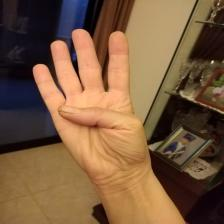four: (31, 28, 152, 176)
